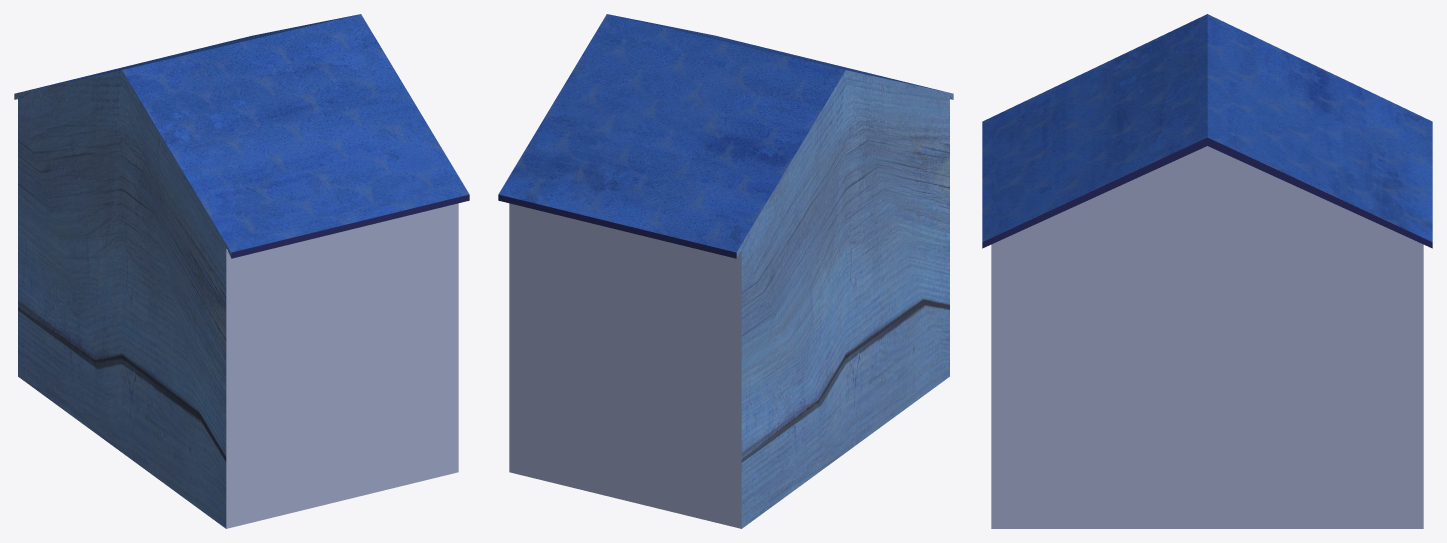
3 renders of one model, left to right at view 1: azimuth 30°, elevation 25°; view 2: azimuth 150°, elevation 25°; view 3: azimuth 270°, elevation 25°, orthographic. The views are drawn at different scales.
Visible parts, largest first — view 1: Cube.002; view 2: Cube.002; view 3: Cube.002.
Part boxes in pixels (x1,y1,x2,y2): Cube.002: [14, 14, 469, 528]; Cube.002: [498, 14, 953, 528]; Cube.002: [982, 14, 1432, 528].
Size of the model in its own units: 0.7629 by 1.17 by 1.2.
Materials: 4 (2 with a texture image).
